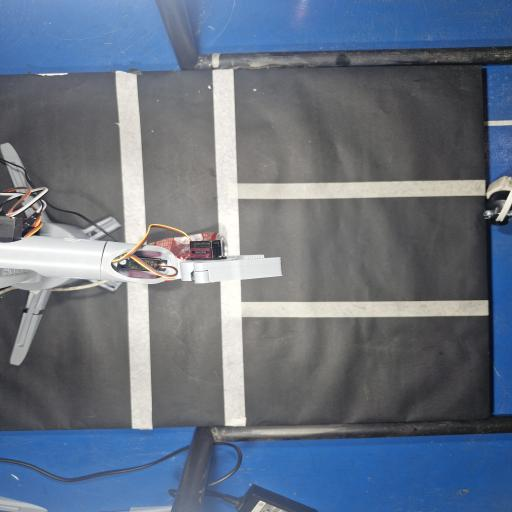lata_defectuoso: (148, 236, 189, 259), (189, 232, 227, 256)
